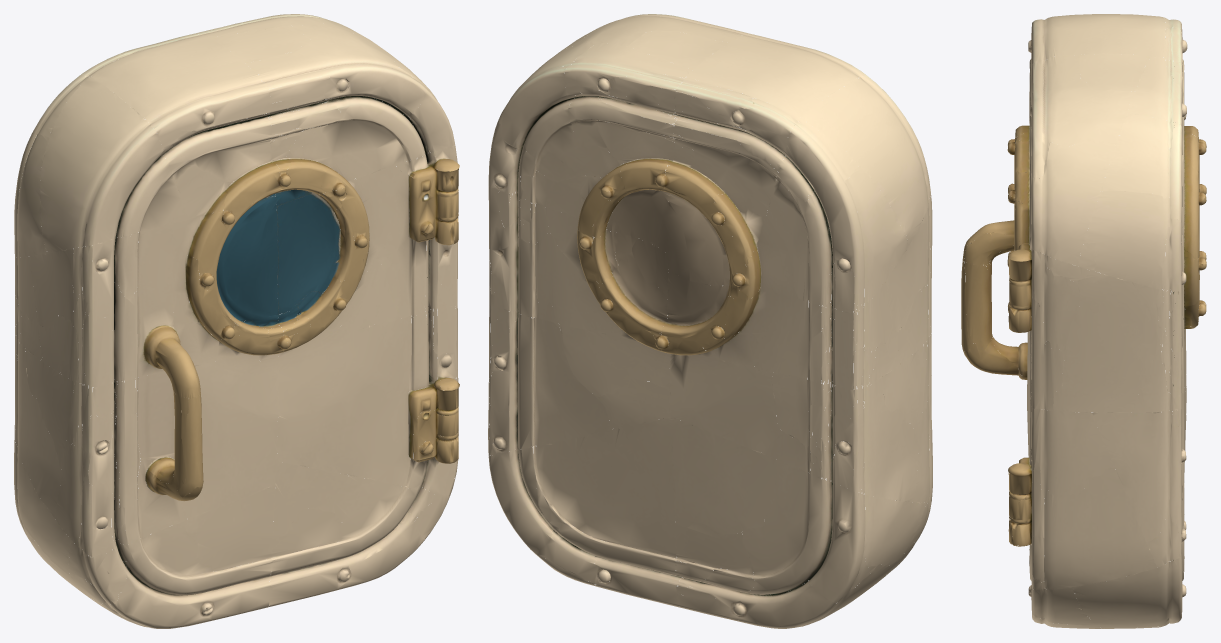
File: hatch.glb
The picture shows the model from 3 angles, left to right: view 1: azimuth 30°, elevation 25°; view 2: azimuth 150°, elevation 25°; view 3: azimuth 270°, elevation 25°; orthographic projection. The views are drawn at different scales.
Parts seen in each view (by area): view 1: hatch; view 2: hatch; view 3: hatch.
Boxes of the visible parts, left/top/right/bottom form: hatch: left=14, top=14, right=459, bottom=628; hatch: left=488, top=14, right=932, bottom=628; hatch: left=961, top=14, right=1206, bottom=628.
Size of the model in its own units: 0.7425 by 0.9809 by 0.4171.
1 material, 1 textured.
